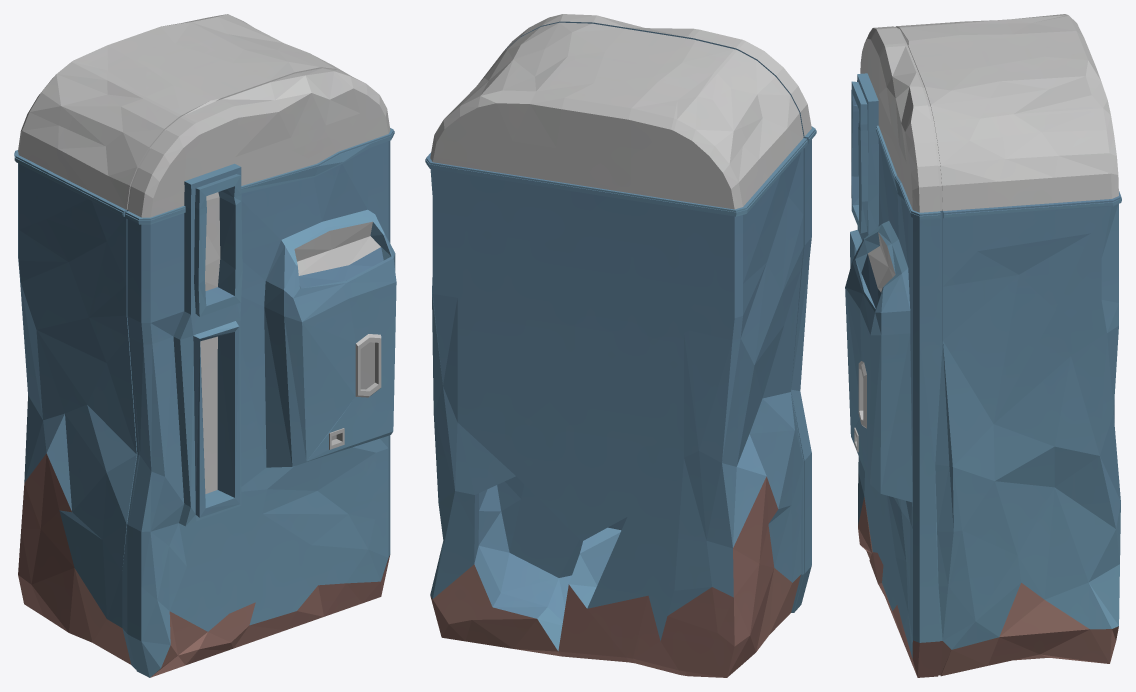
Rendered from soda_vending_machine.obj.
The picture shows the model from 3 angles, left to right: view 1: azimuth 30°, elevation 25°; view 2: azimuth 150°, elevation 25°; view 3: azimuth 270°, elevation 25°; orthographic projection. The views are drawn at different scales.
Parts seen in each view (by area): view 1: soda_vending_machine_Mesh; view 2: soda_vending_machine_Mesh; view 3: soda_vending_machine_Mesh.
Part boxes in pixels (x1,y1,x2,y2): soda_vending_machine_Mesh: [14, 14, 396, 677]; soda_vending_machine_Mesh: [425, 14, 816, 677]; soda_vending_machine_Mesh: [845, 14, 1121, 677].
Bounding box in the file's own units: 0.8843 × 1.47 × 0.6688.
